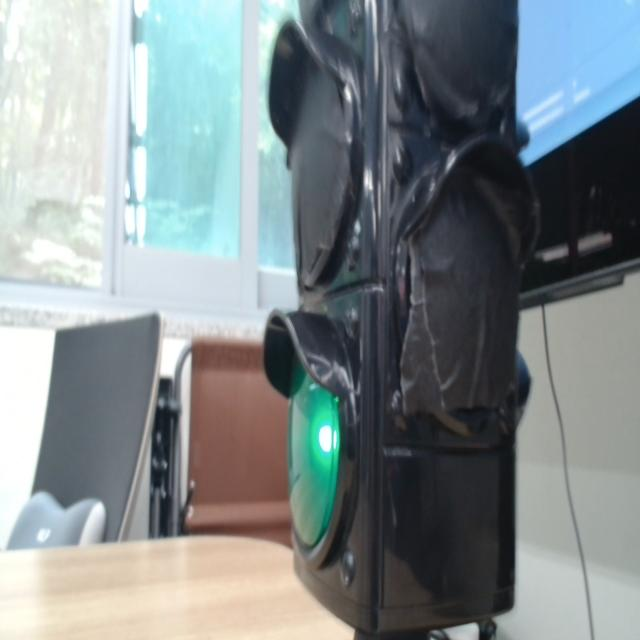green_light: (288, 364, 339, 548)
